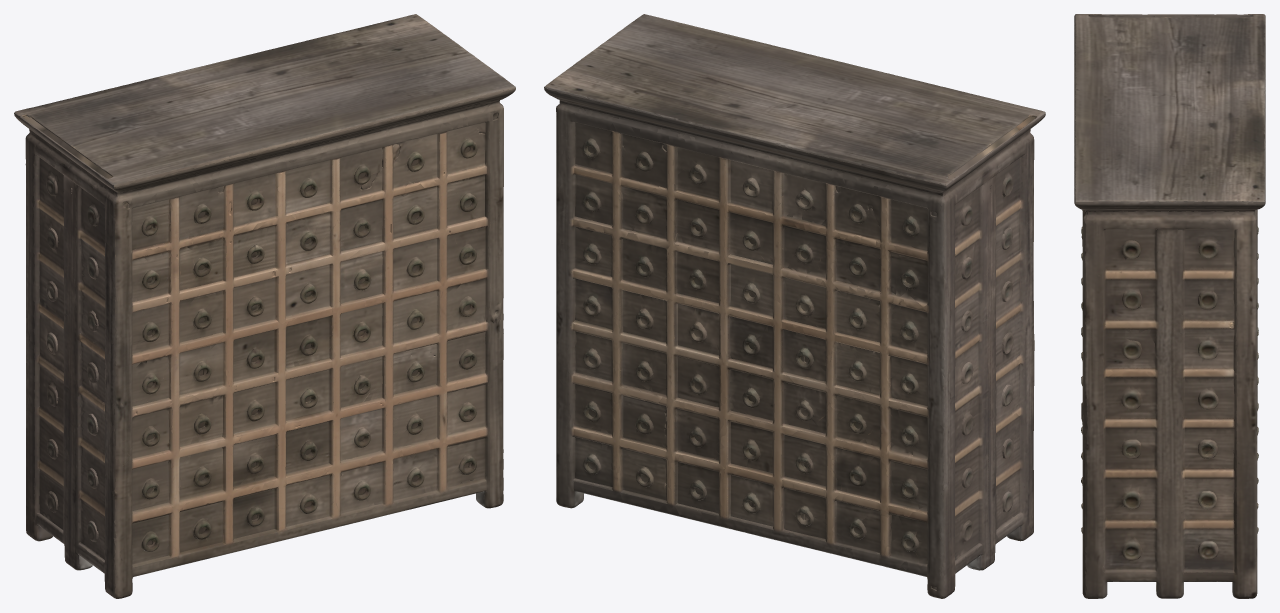
Rendered from herbal-cabinet-v2.glb.
3 views of the same model, side by side, from view 1: azimuth 30°, elevation 25°; view 2: azimuth 150°, elevation 25°; view 3: azimuth 270°, elevation 25° (orthographic). The views are drawn at different scales.
Parts seen in each view (by area): view 1: geometry_0; view 2: geometry_0; view 3: geometry_0.
Part boxes in pixels (x1,y1,x2,y2): geometry_0: (14,14,515,598); geometry_0: (544,14,1045,598); geometry_0: (1074,14,1265,598).
Bounding box in the file's own units: 1.3 × 1.3 × 0.5608.
1 material, 1 textured.
